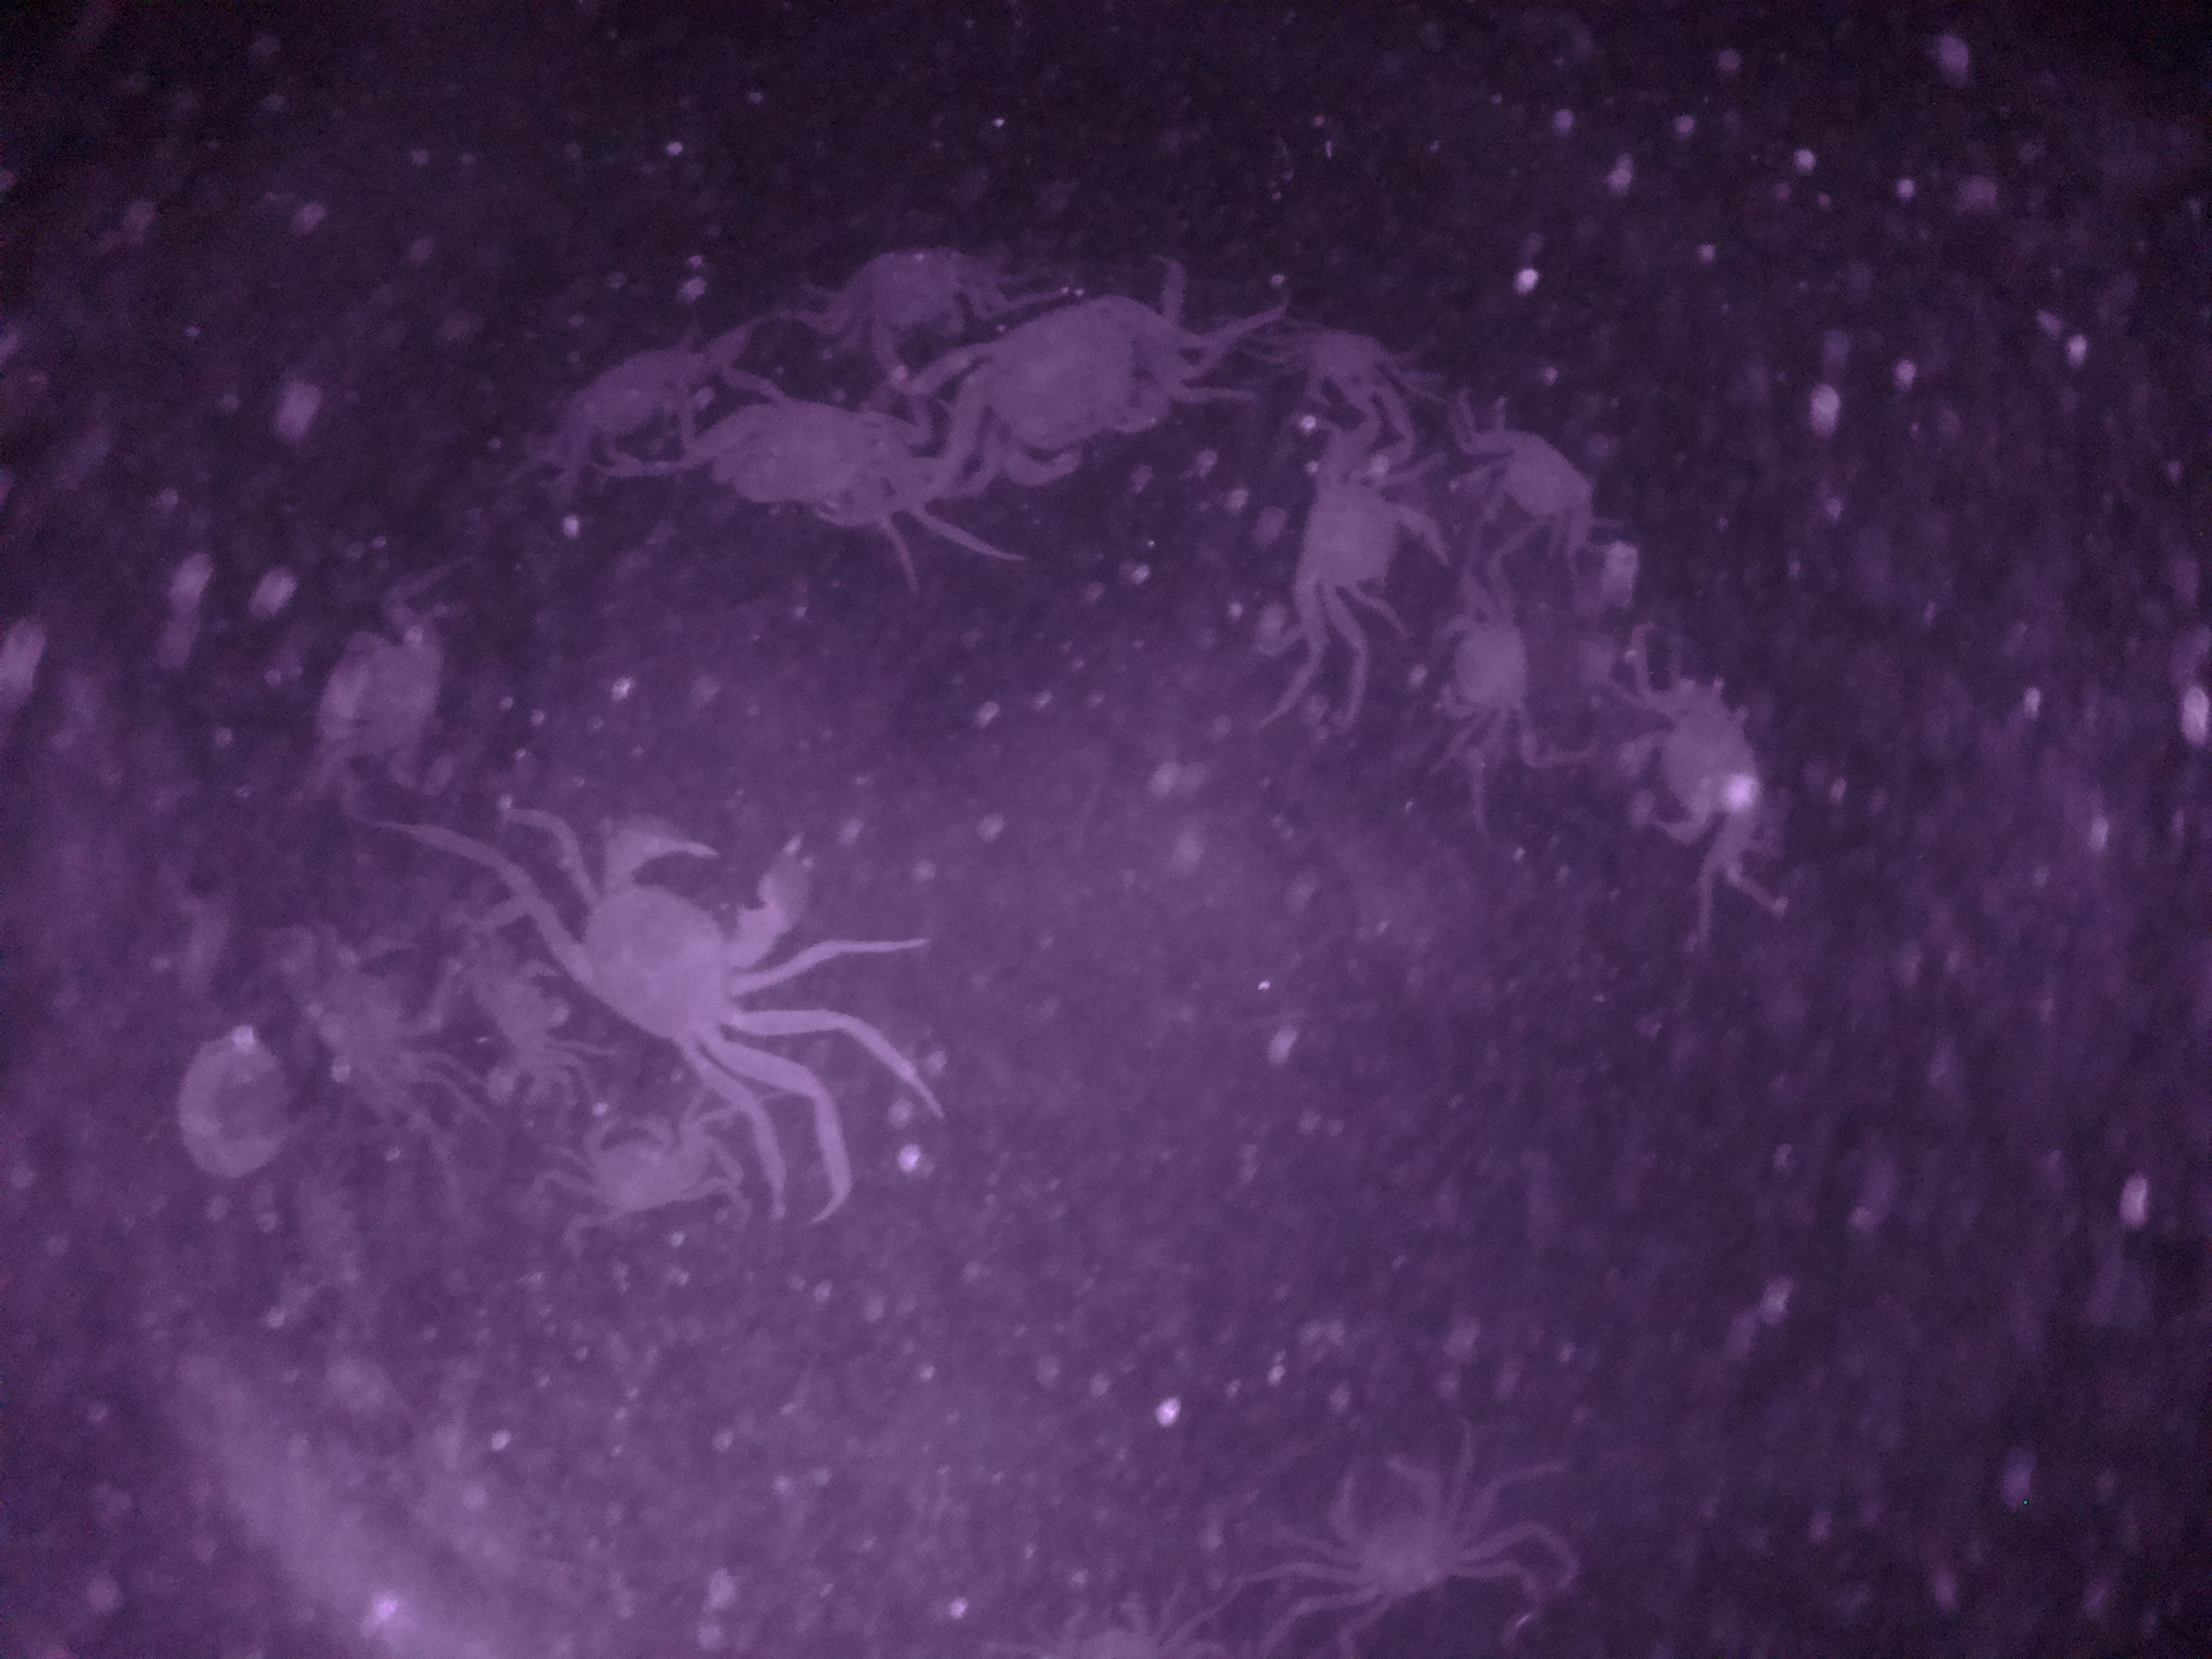Crab: (570, 791, 840, 1093), (951, 275, 1191, 502), (1275, 437, 1451, 647), (697, 396, 946, 542), (1305, 1434, 1491, 1605), (543, 1093, 718, 1234), (1430, 572, 1548, 749)
